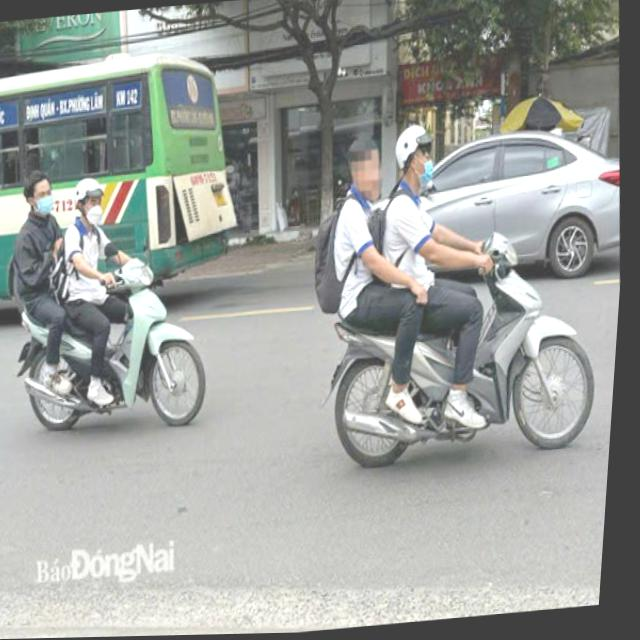car: (319, 119, 630, 302)
motorcycle: (303, 213, 622, 481), (1, 238, 218, 445)
